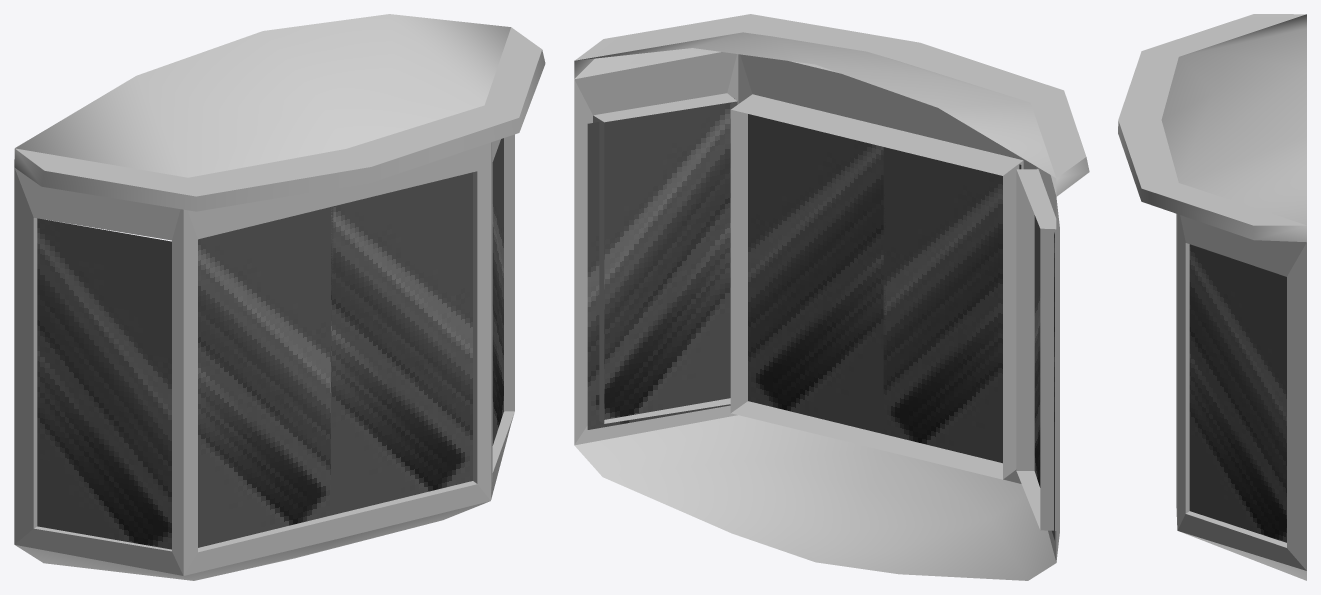
File: balcony2.FBX
3 views of the same model, side by side, from view 1: azimuth 30°, elevation 25°; view 2: azimuth 150°, elevation 25°; view 3: azimuth 270°, elevation 25° (orthographic). The views are drawn at different scales.
Parts seen in each view (by area): view 1: glass (×4), frame; view 2: frame, glass (×4); view 3: frame, glass.
Part boxes in pixels (<box>): glass (×4): <box>37,138,503,549</box>; frame: <box>14,14,545,580</box>; frame: <box>574,14,1089,580</box>; glass (×4): <box>587,98,1054,540</box>; frame: <box>1118,14,1306,580</box>; glass: <box>1189,244,1286,542</box>.
Bounding box in the file's own units: 2.67 × 2.6 × 0.9955.
